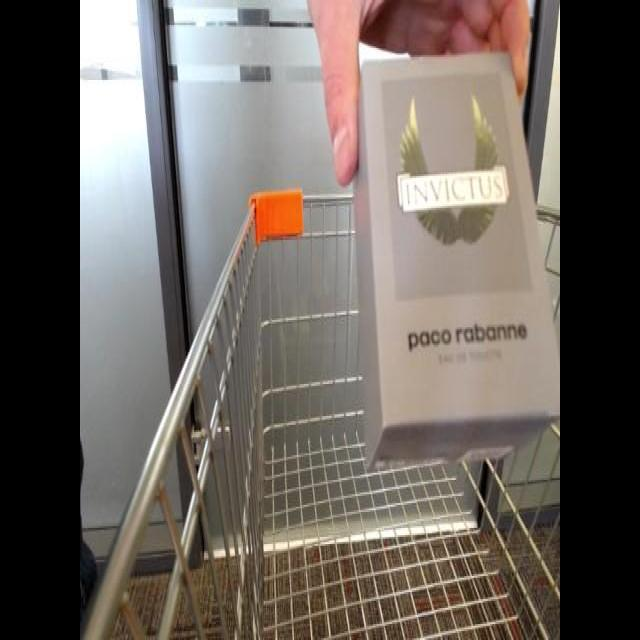Paco Rabanne: (350, 27, 559, 473)
